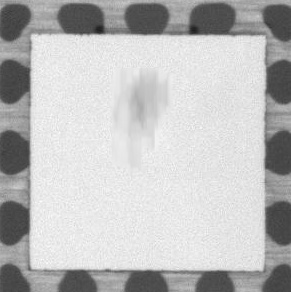DIE_INK: (111, 67, 167, 173)
